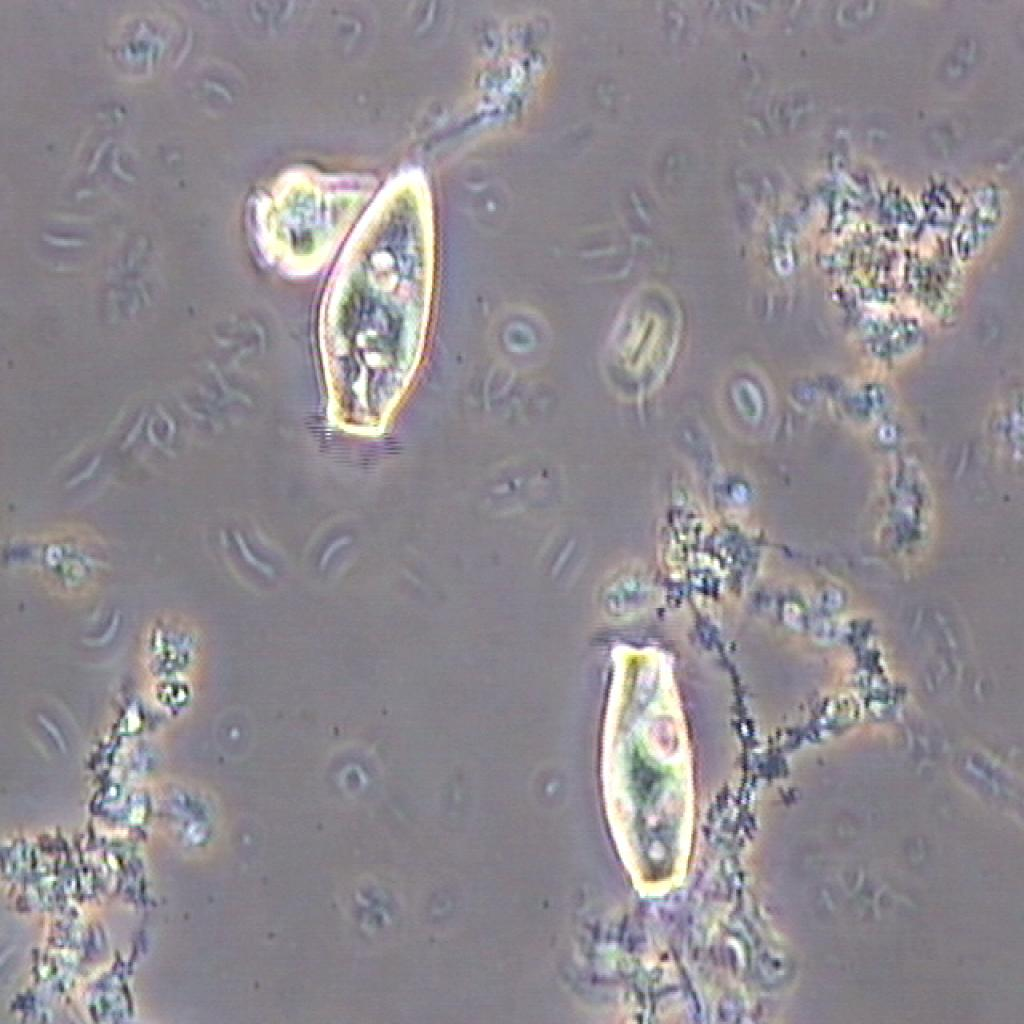Vorticella: (302, 121, 514, 464), (586, 631, 728, 1024)
